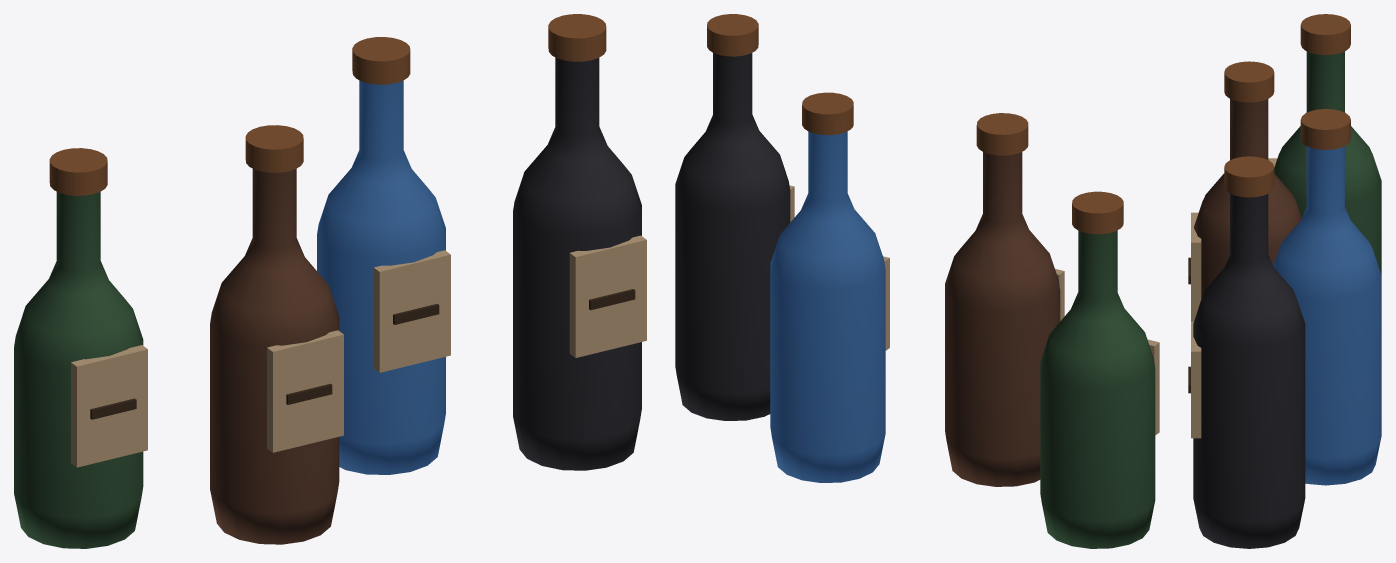
File: mia-bottles.glb
The picture shows the model from 3 angles, left to right: view 1: azimuth 30°, elevation 25°; view 2: azimuth 150°, elevation 25°; view 3: azimuth 270°, elevation 25°; orthographic projection. The views are drawn at different scales.
Visible parts, largest first — view 1: Body_iron, Body_glaze, Body_page-beige, Body_night-glass, Body_cactus-shadow, Body_rust, Body_grain; view 2: Body_night-glass, Body_iron, Body_cactus-shadow, Body_glaze, Body_rust, Body_page-beige; view 3: Body_iron, Body_night-glass, Body_rust, Body_cactus-shadow, Body_glaze, Body_page-beige.
Boxes of the visible parts, x1=… form: Body_iron: x1=513, y1=57, x2=641, y2=470; Body_glaze: x1=210, y1=169, x2=339, y2=544; Body_page-beige: x1=71, y1=235, x2=646, y2=467; Body_night-glass: x1=317, y1=80, x2=445, y2=474; Body_cactus-shadow: x1=14, y1=192, x2=143, y2=548; Body_rust: x1=49, y1=14, x2=606, y2=195; Body_grain: x1=90, y1=289, x2=635, y2=419; Body_night-glass: x1=770, y1=131, x2=885, y2=482; Body_iron: x1=675, y1=53, x2=790, y2=420; Body_cactus-shadow: x1=1040, y1=230, x2=1155, y2=548; Body_glaze: x1=945, y1=152, x2=1060, y2=486; Body_rust: x1=707, y1=14, x2=1123, y2=234; Body_page-beige: x1=789, y1=185, x2=1159, y2=435; Body_iron: x1=1193, y1=193, x2=1305, y2=548; Body_night-glass: x1=1273, y1=146, x2=1381, y2=485; Body_rust: x1=1224, y1=14, x2=1350, y2=197; Body_cactus-shadow: x1=1274, y1=51, x2=1381, y2=274; Body_glaze: x1=1194, y1=99, x2=1301, y2=298; Body_page-beige: x1=1191, y1=158, x2=1277, y2=438.
Size of the model in its own units: 0.382 by 0.2705 by 0.1315.
